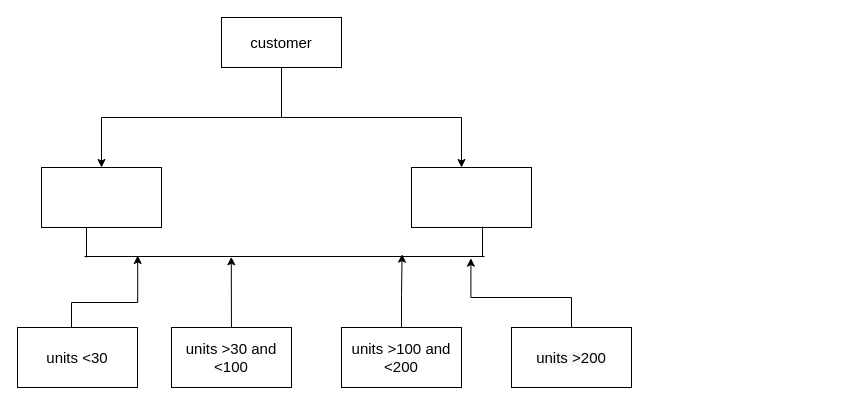
Image size: 845x405. Some labels were removed from this diagram. Each missing label, with the centre of its shape:
rural: [471,197]
urban: [101,197]
